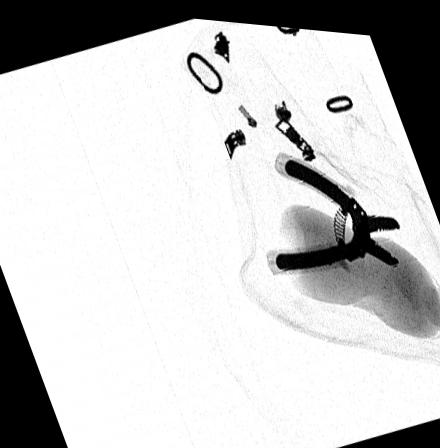Pliers: (273, 148, 401, 266)
